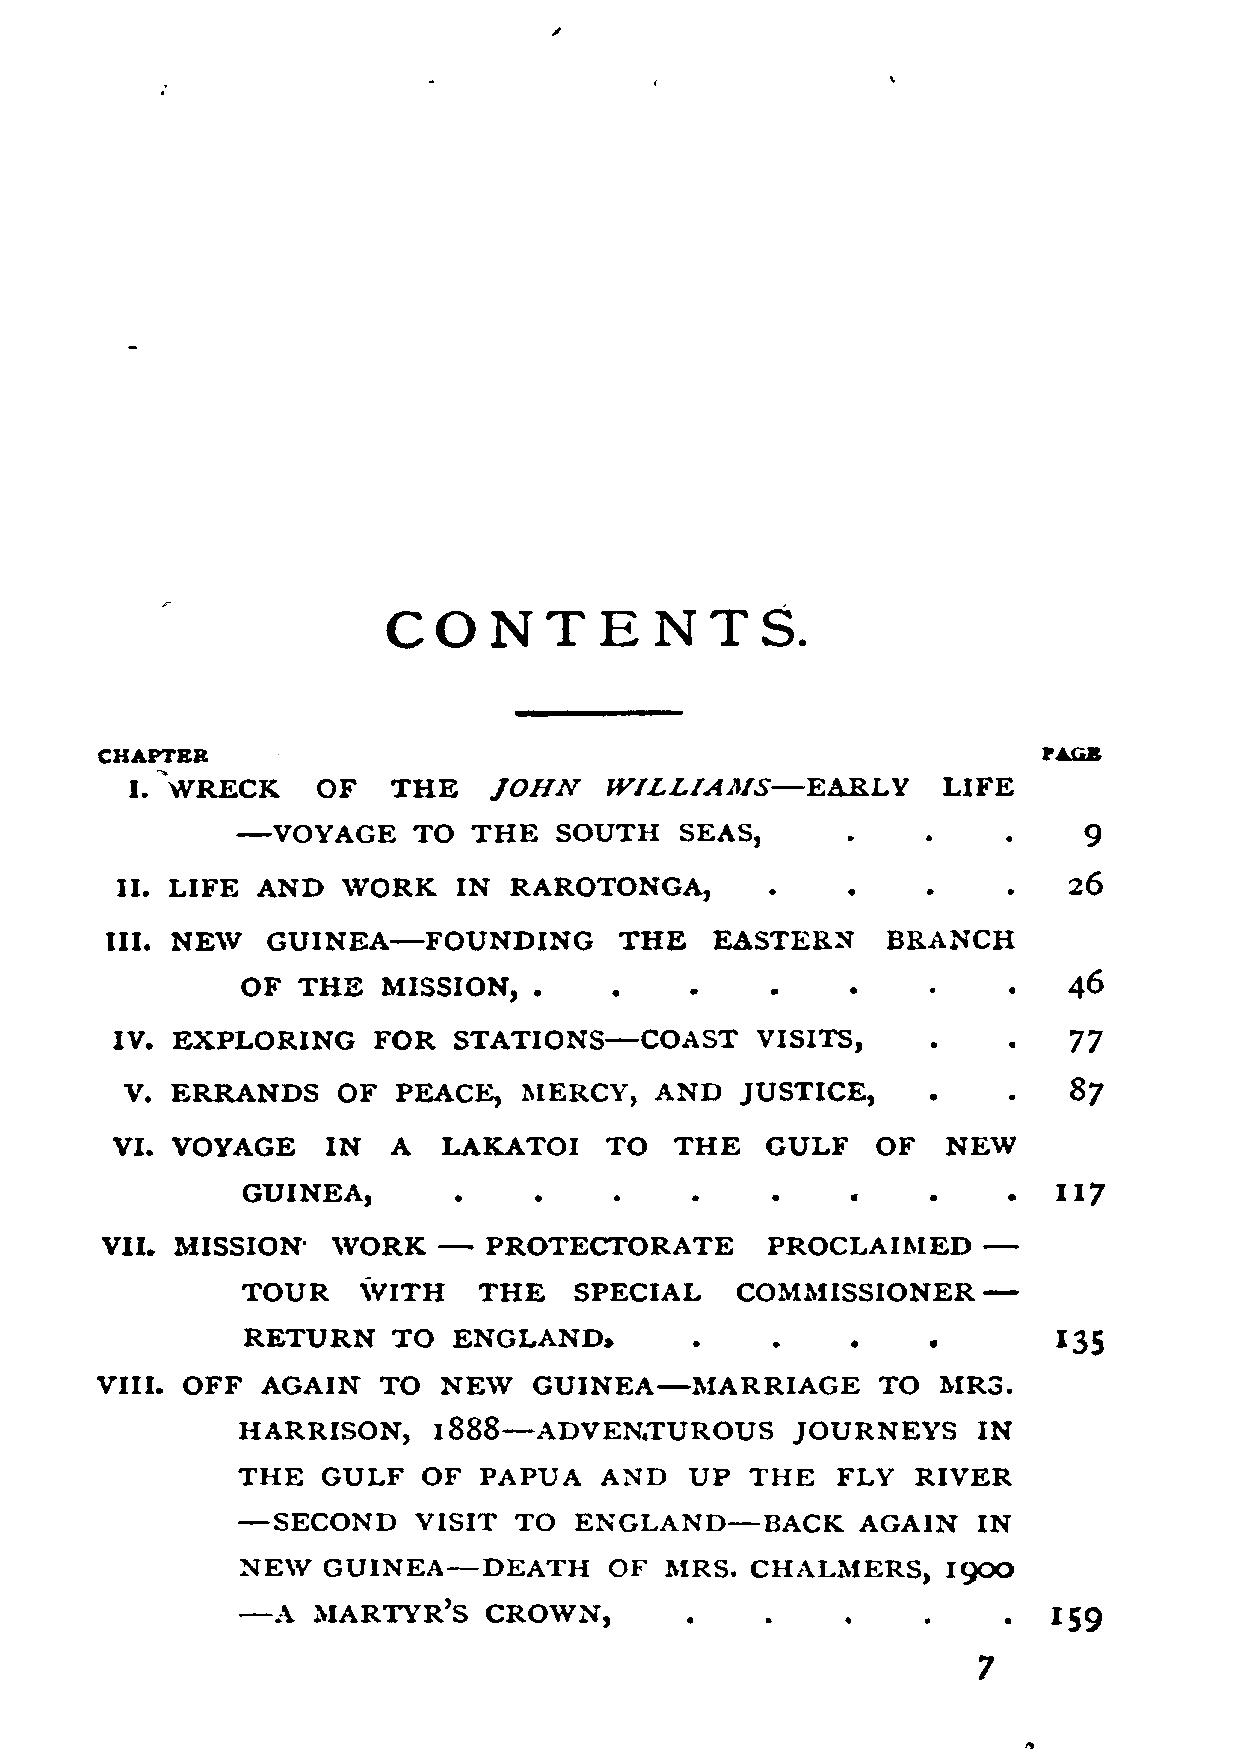TOC_chapter: (95, 1372, 1011, 1632), (98, 1231, 1025, 1351), (113, 1129, 1020, 1210), (101, 929, 1020, 1002), (126, 772, 1017, 847), (119, 1072, 880, 1108), (95, 1023, 864, 1057), (111, 871, 709, 900)
TOC_pagenumber: (1047, 1600, 1106, 1636), (1055, 1321, 1104, 1361), (1045, 1176, 1108, 1205), (1063, 964, 1107, 998), (1067, 1070, 1104, 1110), (1068, 1023, 1100, 1057), (1067, 870, 1106, 896), (1076, 823, 1108, 851)
chapter: (374, 599, 809, 652)
